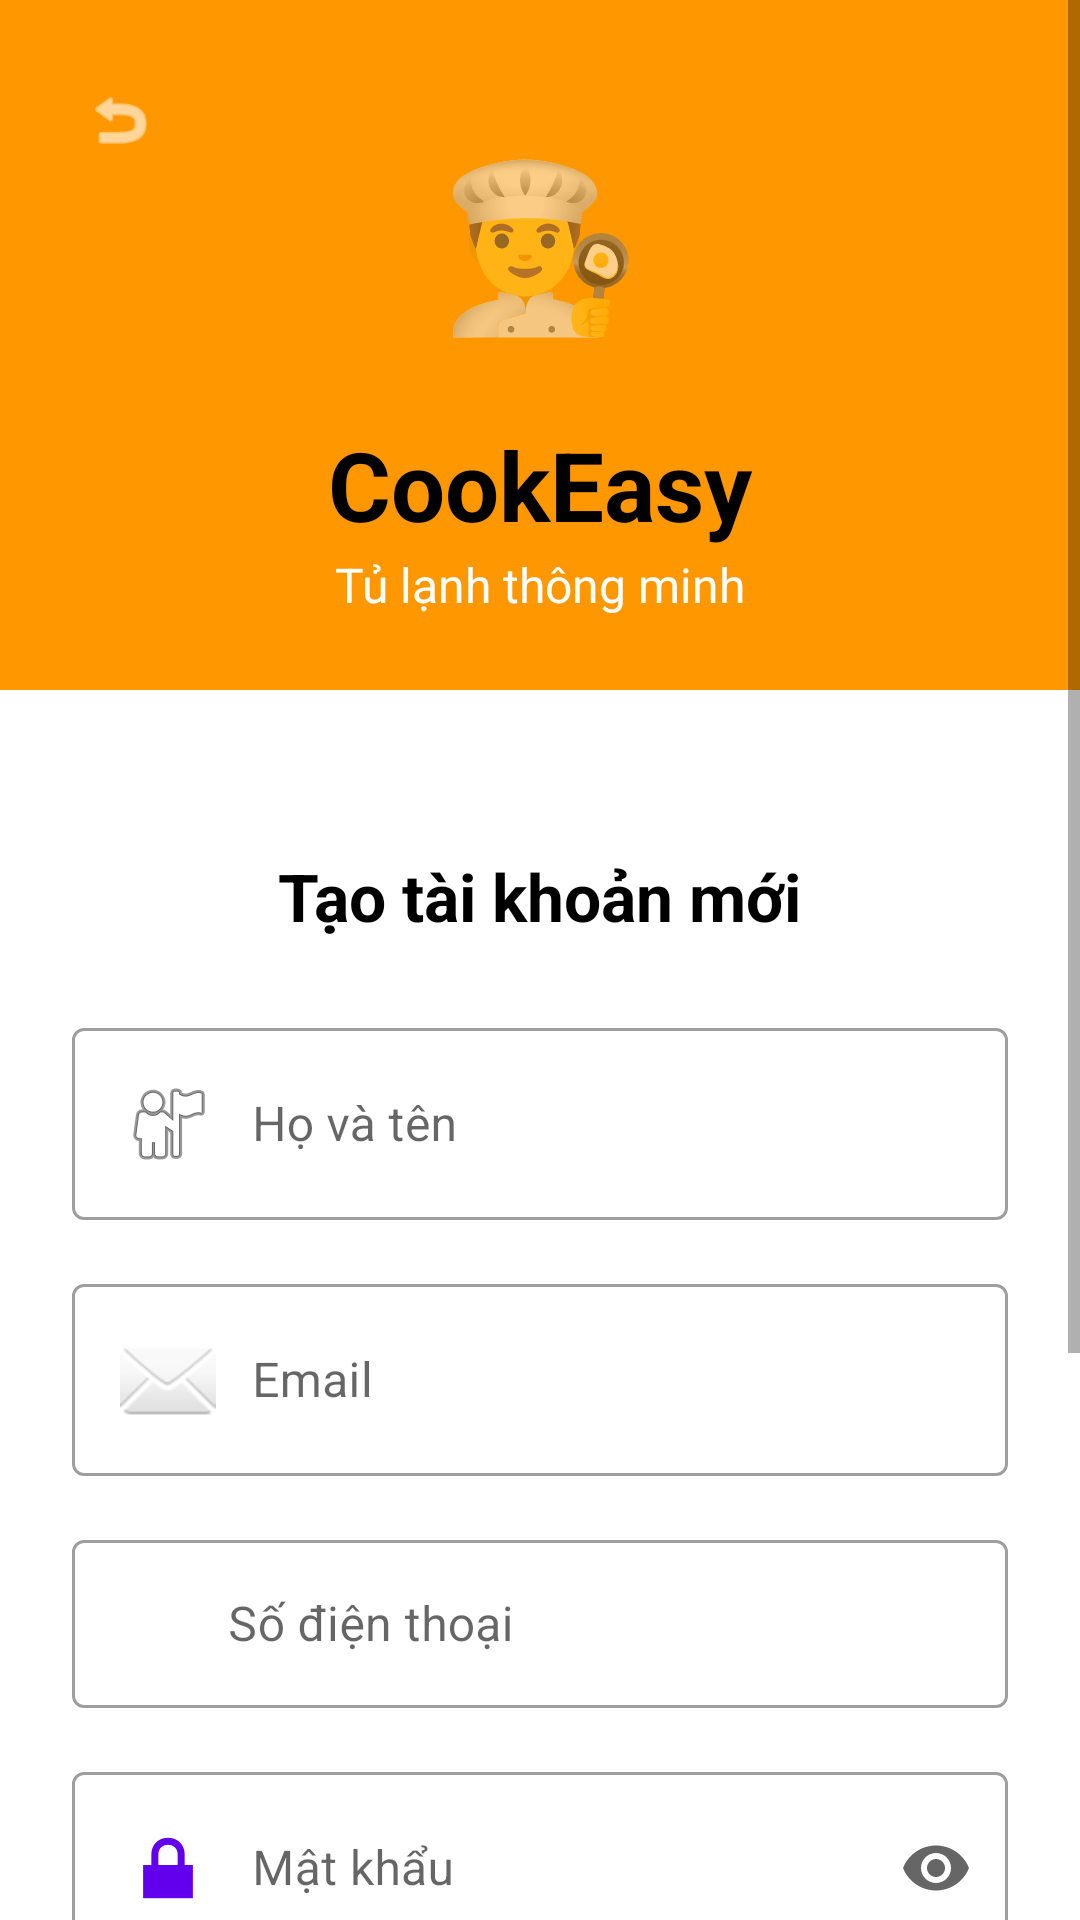

Where icons sit on this 1080px x 1920px app screen, as (x1, y1, x2, y2):
revert: (95, 97, 147, 144)
